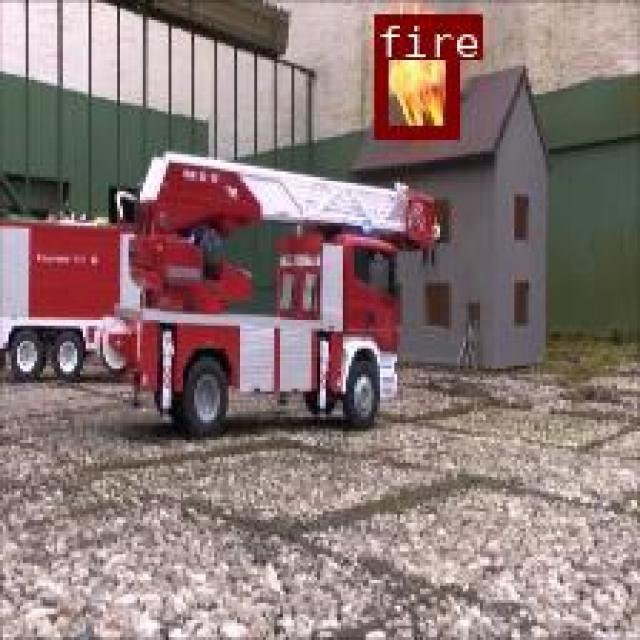fire: (373, 13, 456, 136)
